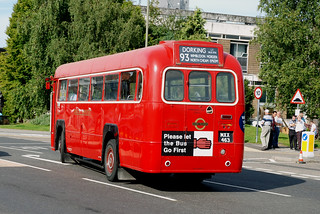bus: (45, 40, 245, 183)
